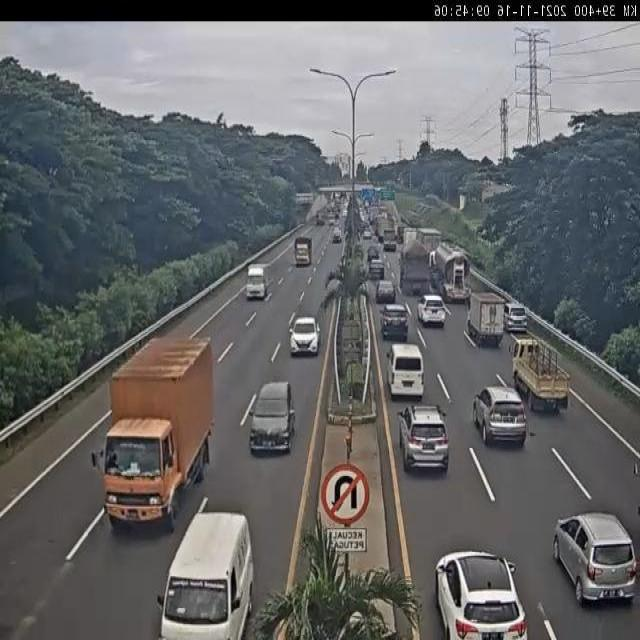Car: (434, 549, 528, 639), (553, 512, 638, 606), (398, 402, 450, 472), (249, 381, 296, 454), (473, 385, 528, 447), (289, 314, 320, 356), (380, 303, 410, 341), (417, 294, 446, 328), (376, 280, 396, 304), (368, 258, 384, 280), (367, 246, 379, 262), (363, 229, 372, 240)
Truck: (96, 336, 212, 534), (508, 336, 571, 415), (429, 239, 475, 304), (466, 291, 506, 348), (398, 240, 432, 296), (243, 264, 271, 304), (415, 227, 443, 256), (503, 302, 528, 333), (293, 235, 314, 268), (382, 226, 397, 250), (375, 218, 387, 244), (367, 205, 380, 226), (402, 228, 416, 247), (396, 225, 405, 244)
Van: (155, 510, 258, 640), (386, 343, 425, 400)
